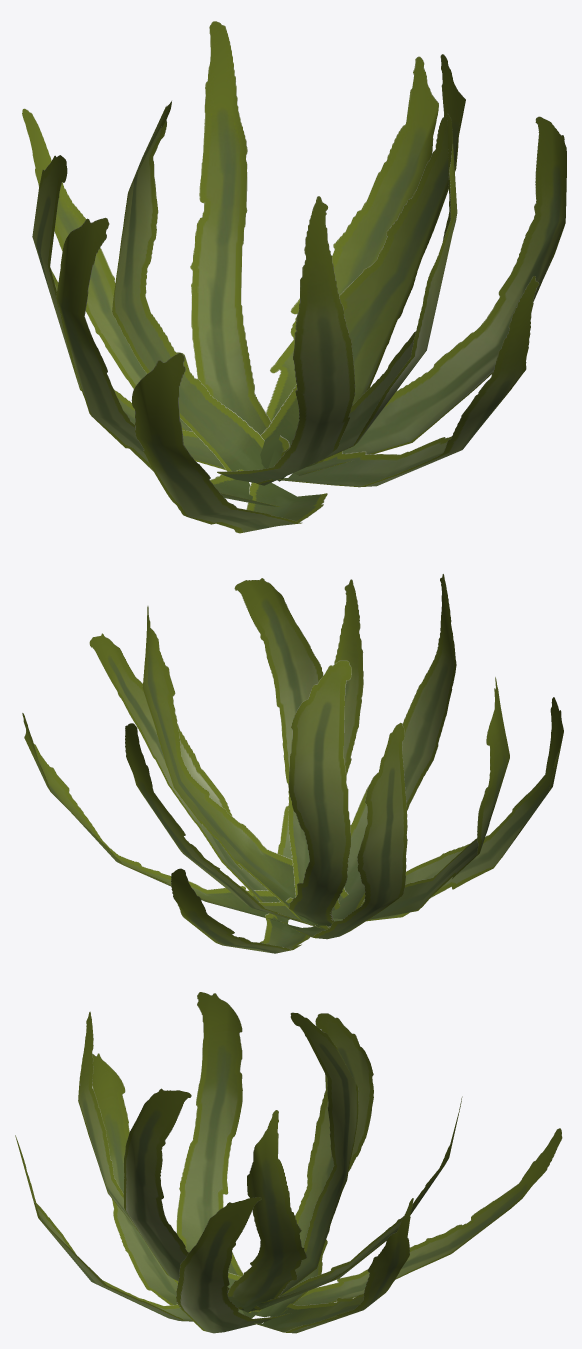
Rendered from GrassWeed.fbx.
The picture shows the model from 3 angles, top to bottom: view 1: azimuth 30°, elevation 25°; view 2: azimuth 150°, elevation 25°; view 3: azimuth 270°, elevation 25°; orthographic projection. The views are drawn at different scales.
Parts seen in each view (by area): view 1: GrassWeed; view 2: GrassWeed; view 3: GrassWeed.
Part boxes in pixels (x1=…): GrassWeed: x1=22, y1=21, x2=566, y2=533; GrassWeed: x1=22, y1=574, x2=563, y2=953; GrassWeed: x1=15, y1=992, x2=562, y2=1333.
Size of the model in its own units: 0.6407 by 0.4836 by 0.799.
